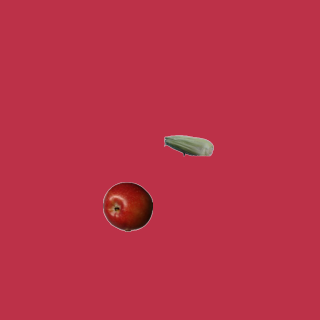Apple Braeburn: (102, 181, 152, 231)
Corn Husk: (163, 120, 213, 170)
